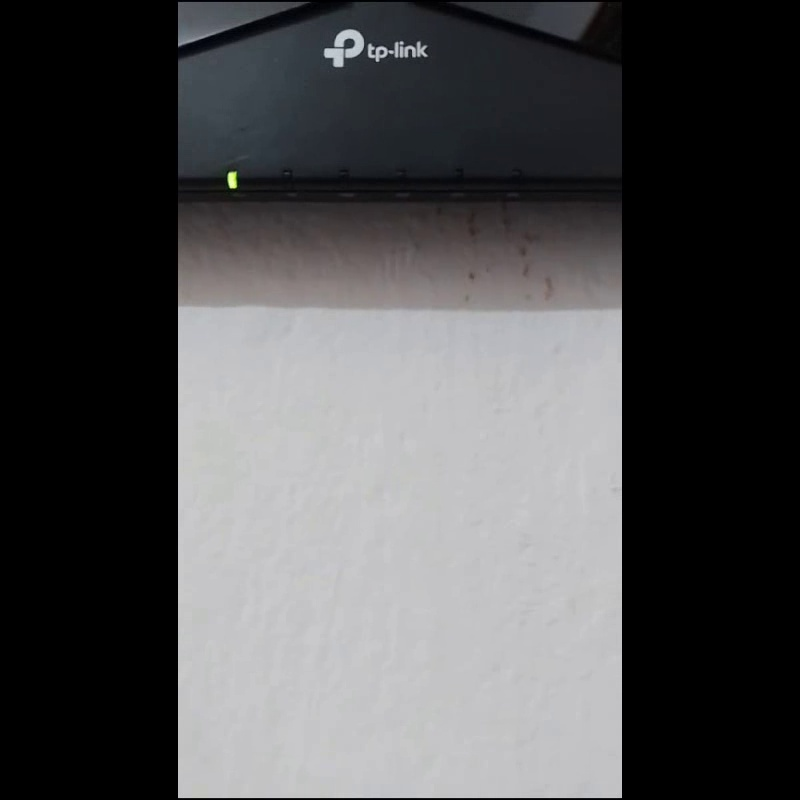off: (453, 167, 464, 187), (396, 166, 406, 187), (510, 167, 520, 187), (339, 166, 348, 188), (281, 168, 291, 187)
on_green: (226, 169, 237, 189)
